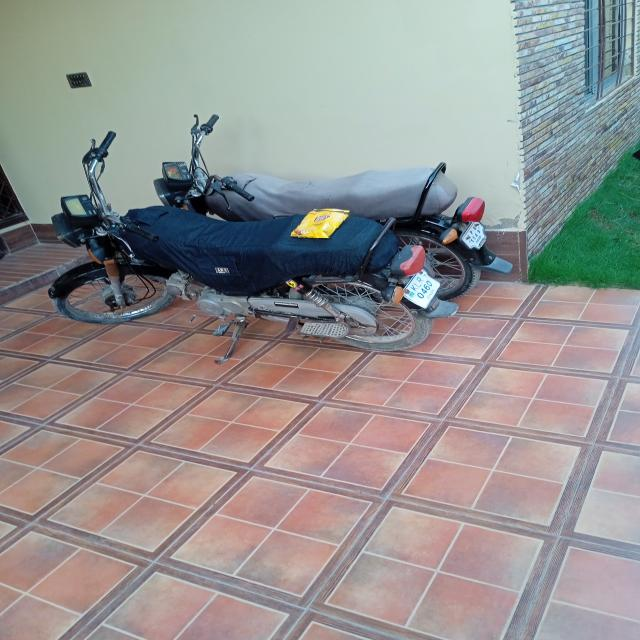Plastic: (292, 208, 352, 238)
